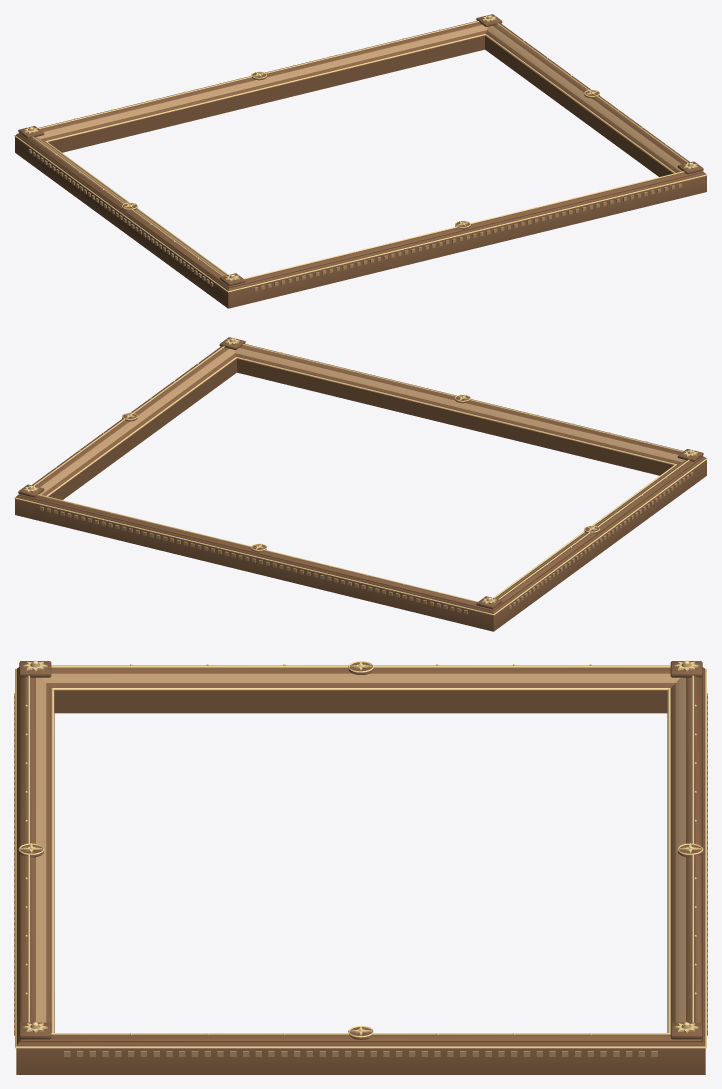
File: frame.glb
3 views of the same model, one above another, from view 1: azimuth 30°, elevation 25°; view 2: azimuth 150°, elevation 25°; view 3: azimuth 270°, elevation 25° (orthographic). The views are drawn at different scales.
Parts seen in each view (by area): view 1: frame; view 2: frame; view 3: frame.
Boxes of the visible parts, bbox=[...] form: frame: bbox=[14, 14, 707, 308]; frame: bbox=[14, 337, 707, 631]; frame: bbox=[14, 660, 707, 1074].
Bounding box in the file's own units: 14.07 × 0.76 × 10.87.
